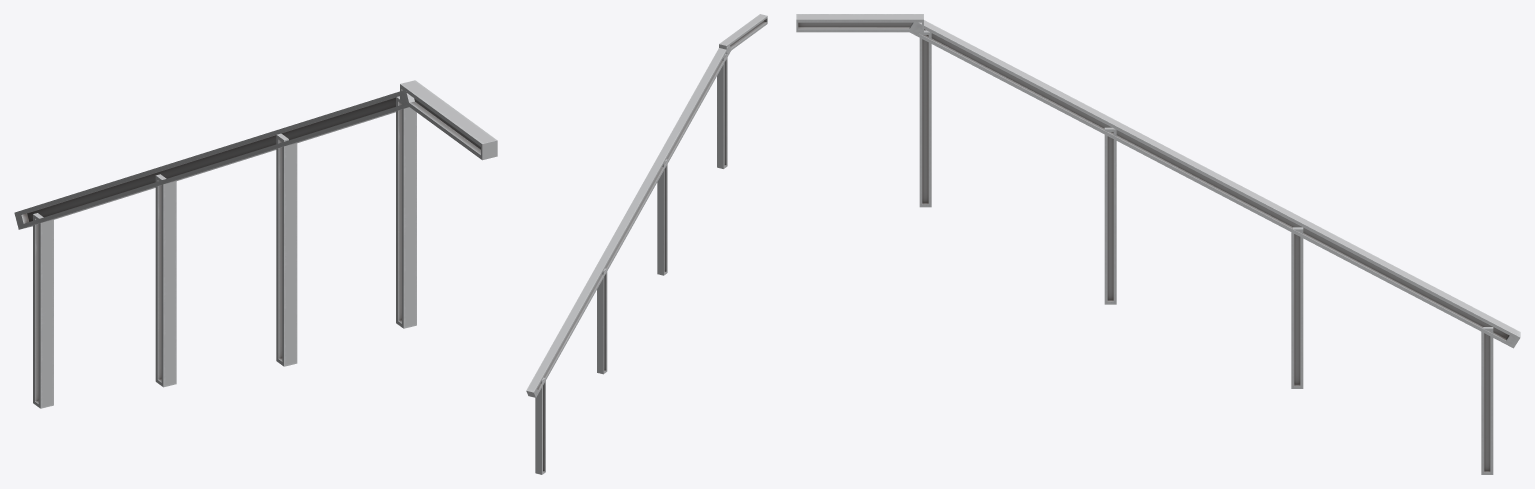
Rendered from Pfb_Stairs_Temp.fbx.
The picture shows the model from 3 angles, left to right: view 1: azimuth 30°, elevation 25°; view 2: azimuth 150°, elevation 25°; view 3: azimuth 270°, elevation 25°; orthographic projection. The views are drawn at different scales.
Visible parts, largest first — view 1: Mat_SteelFrame_01; view 2: Mat_SteelFrame_01; view 3: Mat_SteelFrame_01.
Boxes of the visible parts, box(x1,y1,x2,y2) form: Mat_SteelFrame_01: box(14, 80, 497, 408); Mat_SteelFrame_01: box(526, 14, 767, 474); Mat_SteelFrame_01: box(796, 14, 1520, 474).
Size of the model in its own units: 0.1084 by 3.97 by 5.72.
Materials: 1 (1 with a texture image).
